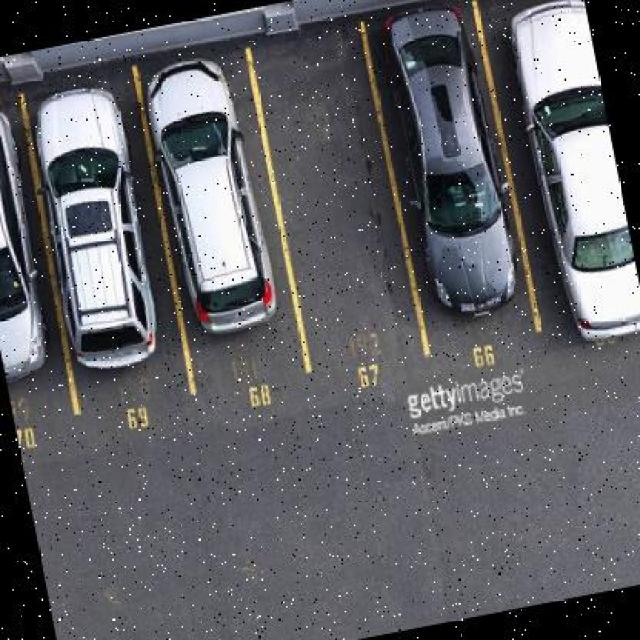Car: (484, 1, 640, 358), (374, 1, 537, 332), (133, 40, 298, 364), (27, 84, 184, 389), (1, 104, 63, 410)
Empty: (255, 31, 422, 380)
